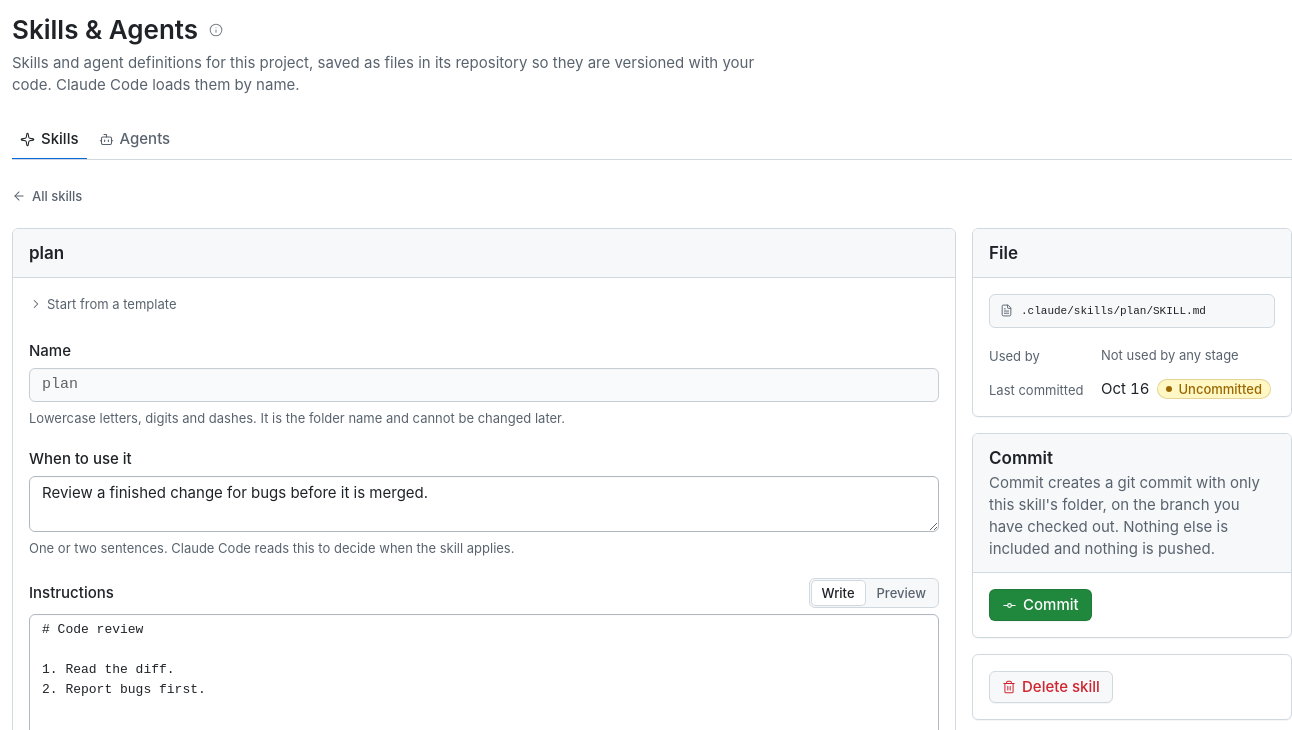
it: Skills page › explains a refused commit (other files staged)
The image size is (1292, 730).
Click the button "Commit": (1040, 605) [989,589,1092,621]
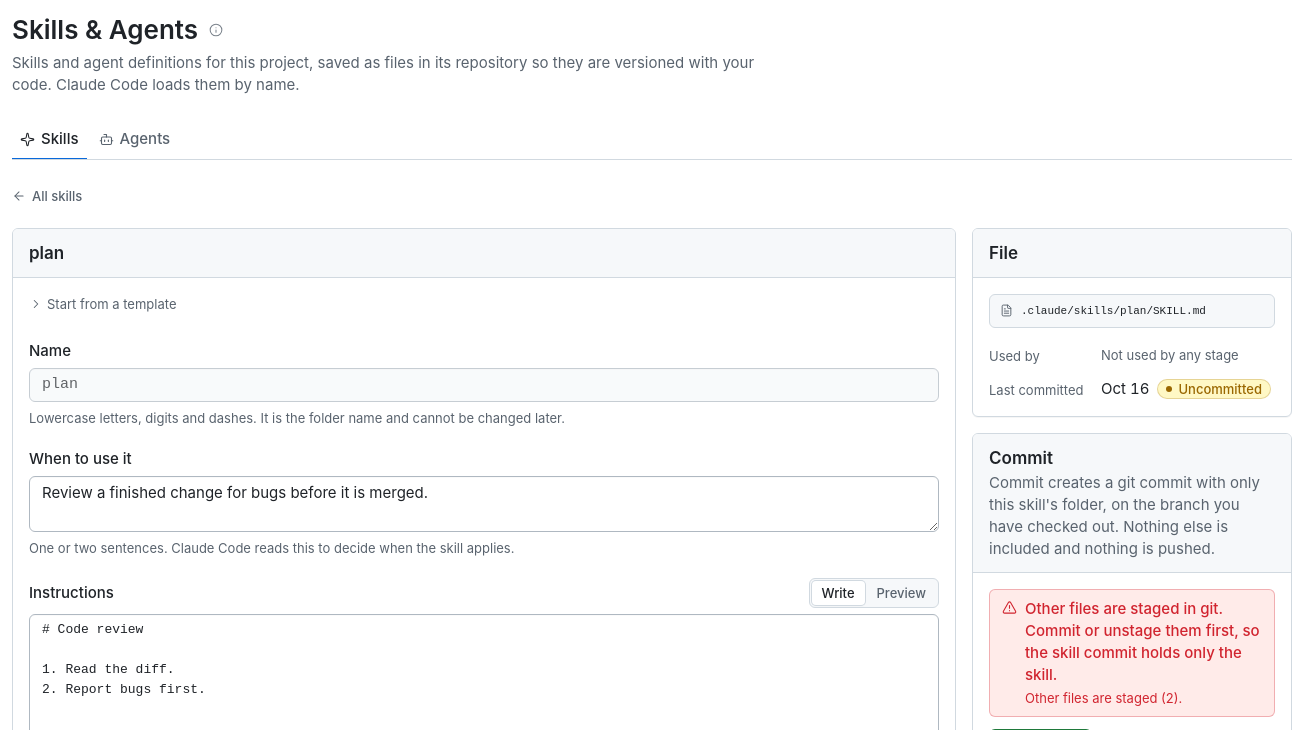
Result: the message shows "Commit or unstage them first" at [1025,599,1260,684]
Result: the message shows "Other files are staged (2)." at [1025,690,1182,706]
